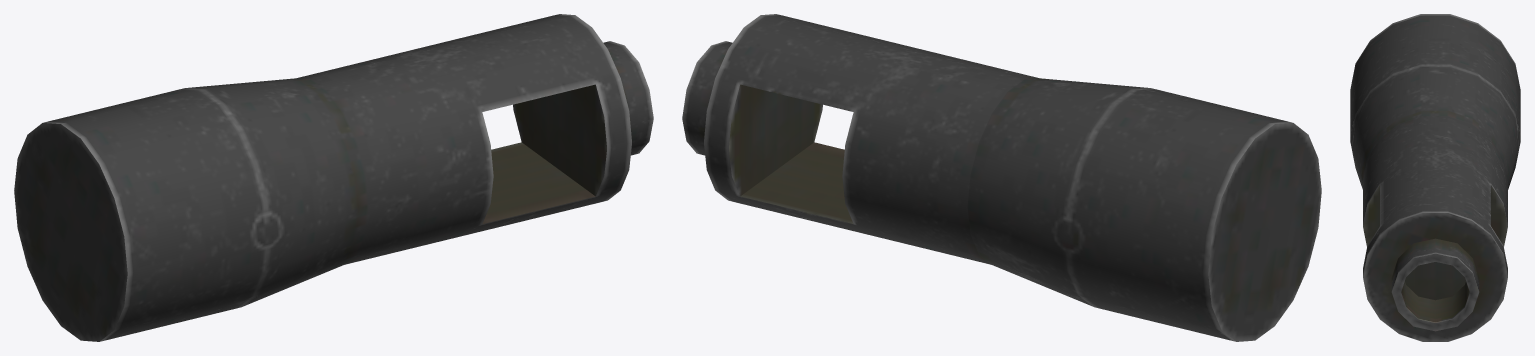
The model's file is ST_Muzzle_Compensater_AKM.FBX.
3 views of the same model, side by side, from view 1: azimuth 30°, elevation 25°; view 2: azimuth 150°, elevation 25°; view 3: azimuth 270°, elevation 25° (orthographic). The views are drawn at different scales.
Parts seen in each view (by area): view 1: ST_Muzzle_Compensater_AKM; view 2: ST_Muzzle_Compensater_AKM; view 3: ST_Muzzle_Compensater_AKM.
Boxes of the visible parts, x1=… form: ST_Muzzle_Compensater_AKM: x1=14, y1=14, x2=653, y2=341; ST_Muzzle_Compensater_AKM: x1=682, y1=14, x2=1321, y2=341; ST_Muzzle_Compensater_AKM: x1=1350, y1=14, x2=1520, y2=341.
Size of the model in its own units: 4.51 by 1.57 by 1.6.
Materials: 1 (1 with a texture image).
